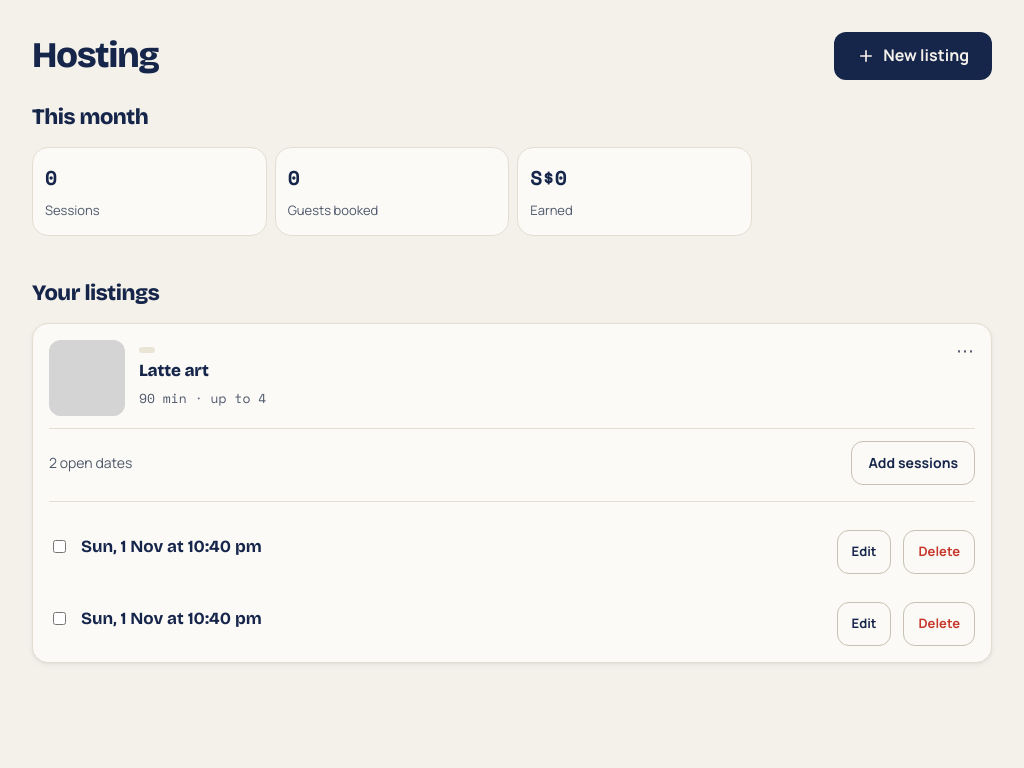
Dashboard listings › removes empty upcoming sessions when the listing is deleted
Expected: the heading "Hosting" is shown, [32,36,159,76]
Click the button named "More actions" at (965, 350), box [947,332,983,368]
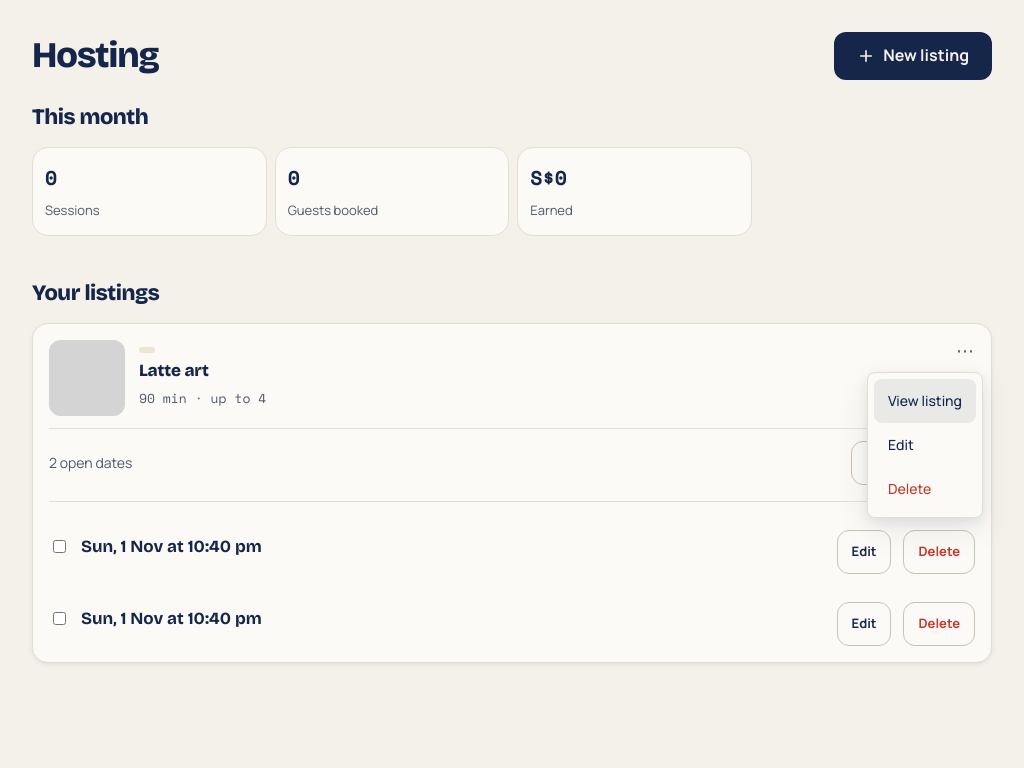
Click the menu item "Delete" at (925, 489), box [874,467,976,511]
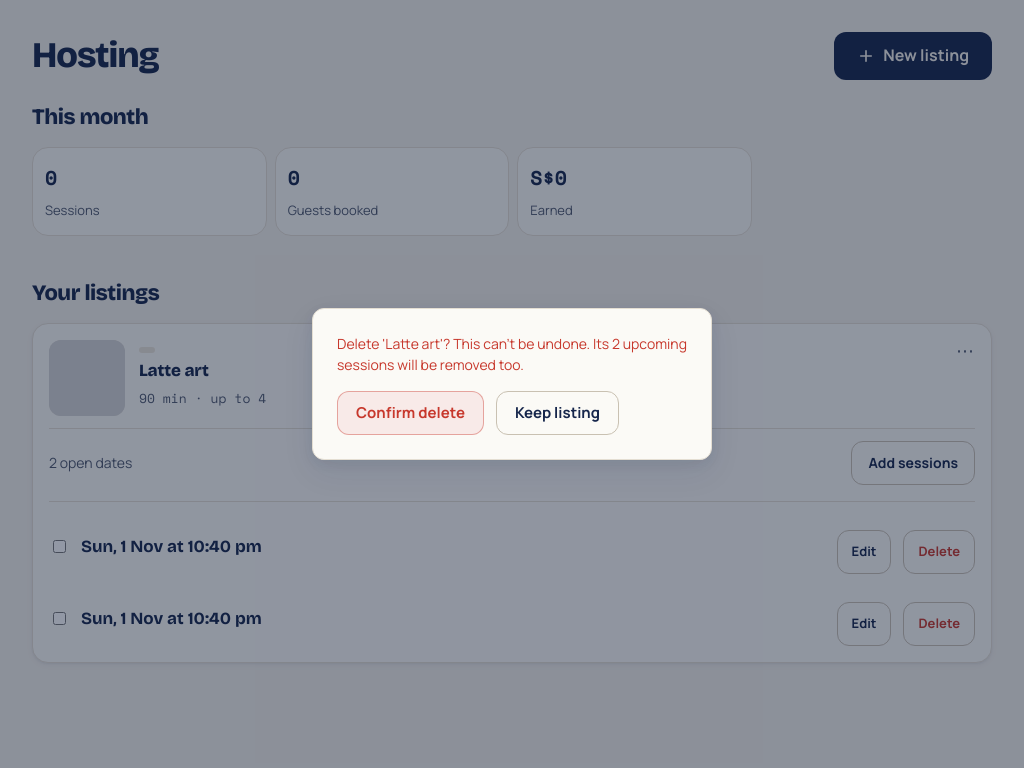
Now the dialog shows "Delete 'Latte art'? This can't be undone. Its 2 upcoming sessions will be removed too.", box [337,334,687,374]
Click the button "Confirm delete" at (410, 413), box [337,391,484,435]
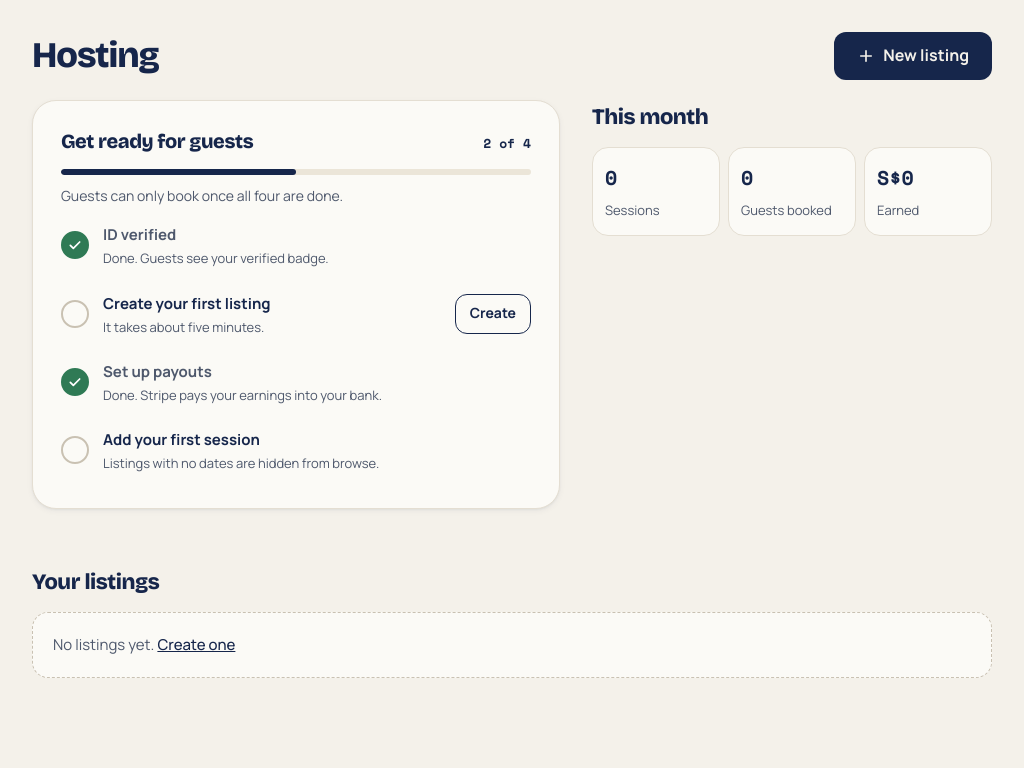
Now the link "Latte art" is gone
